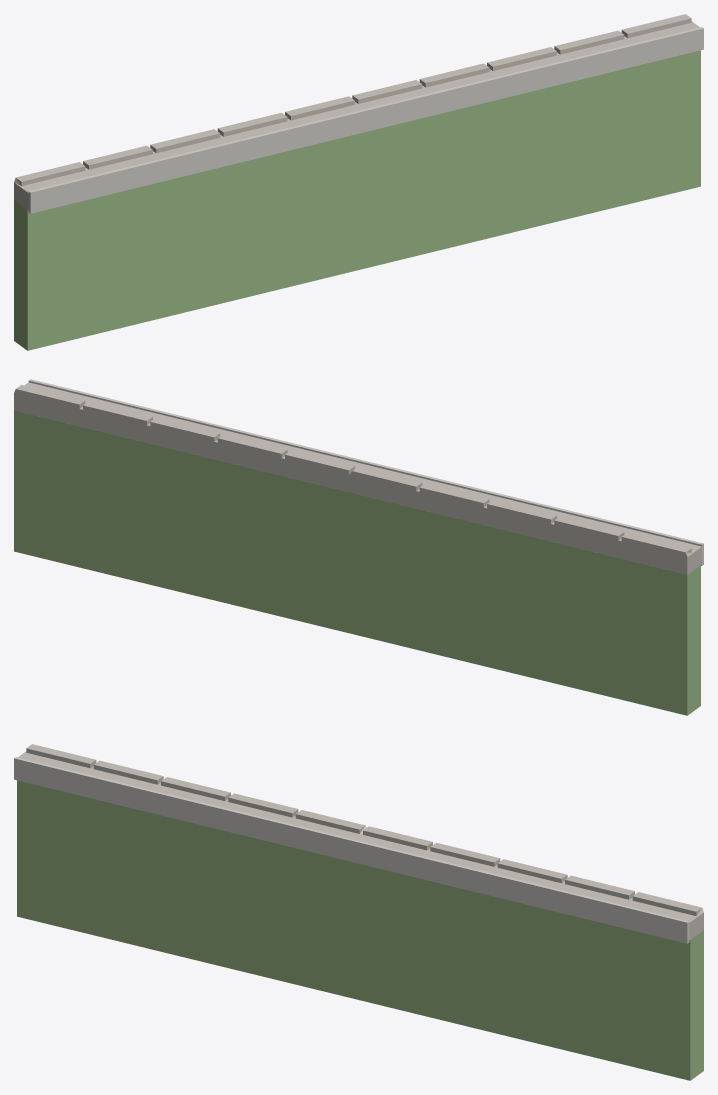
File: r-107-kelly-drive-stone-wall.glb
3 views of the same model, one above another, from view 1: azimuth 30°, elevation 25°; view 2: azimuth 150°, elevation 25°; view 3: azimuth 330°, elevation 25° (orthographic).
Visible parts, largest first — view 1: grass, coping, wall; view 2: grass, wall, coping; view 3: grass, coping, wall.
Boxes of the visible parts, left/top/right/bottom form: grass: left=14, top=50, right=700, bottom=350; coping: left=28, top=27, right=703, bottom=213; wall: left=14, top=14, right=699, bottom=210; grass: left=14, top=410, right=700, bottom=715; wall: left=14, top=382, right=701, bottom=574; coping: left=28, top=379, right=703, bottom=565; grass: left=17, top=780, right=703, bottom=1080; coping: left=14, top=757, right=689, bottom=943; wall: left=18, top=744, right=703, bottom=940.
Bounding box in the file's own units: 40000 × 9249 × 1701.
